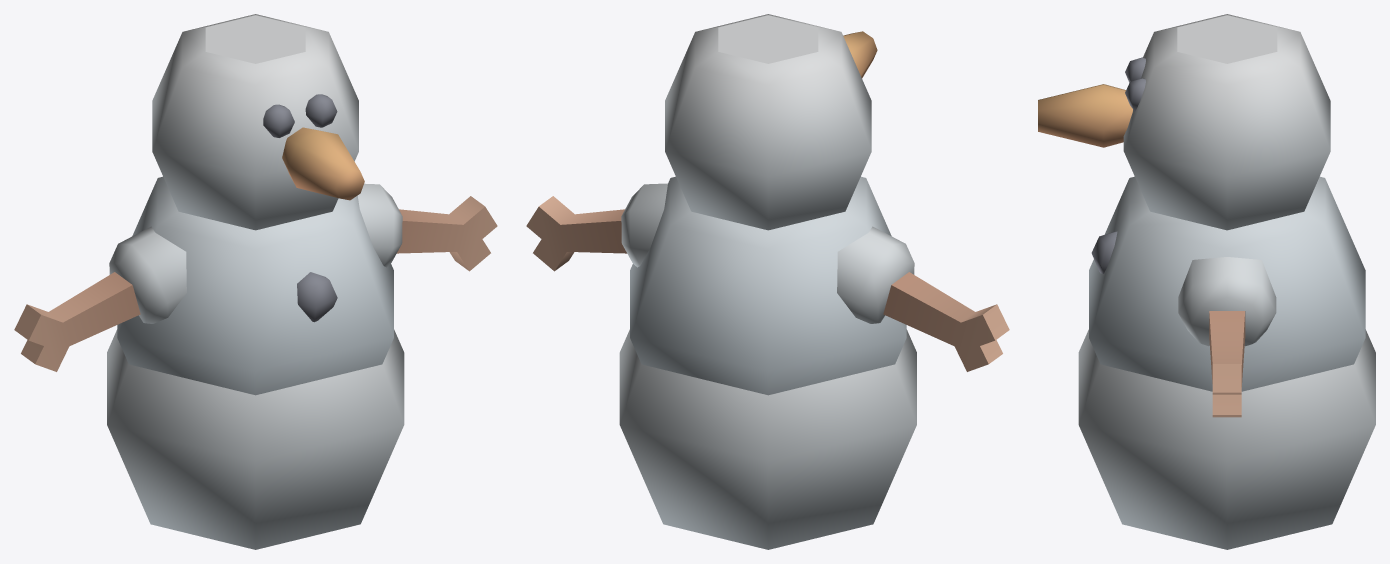
The model's file is snowman.glb.
3 renders of one model, left to right at view 1: azimuth 30°, elevation 25°; view 2: azimuth 150°, elevation 25°; view 3: azimuth 270°, elevation 25°, orthographic.
Parts seen in each view (by area): view 1: snowman; view 2: snowman; view 3: snowman.
Part boxes in pixels (x1,y1,x2,y2): snowman: (14,14,497,549); snowman: (526,14,1009,549); snowman: (1038,14,1375,549).
Size of the model in its own units: 35.25 by 34 by 21.98.
